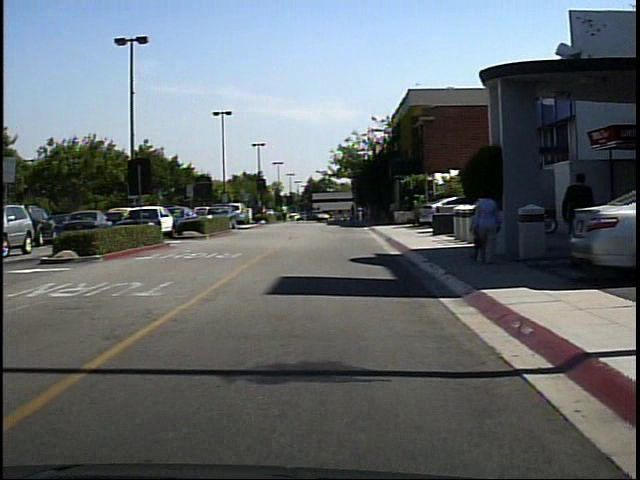person: (560, 163, 609, 275), (474, 185, 505, 266), (479, 189, 502, 264), (356, 204, 369, 228), (287, 201, 298, 226)
